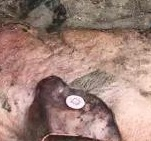text: (58, 84, 91, 115)
